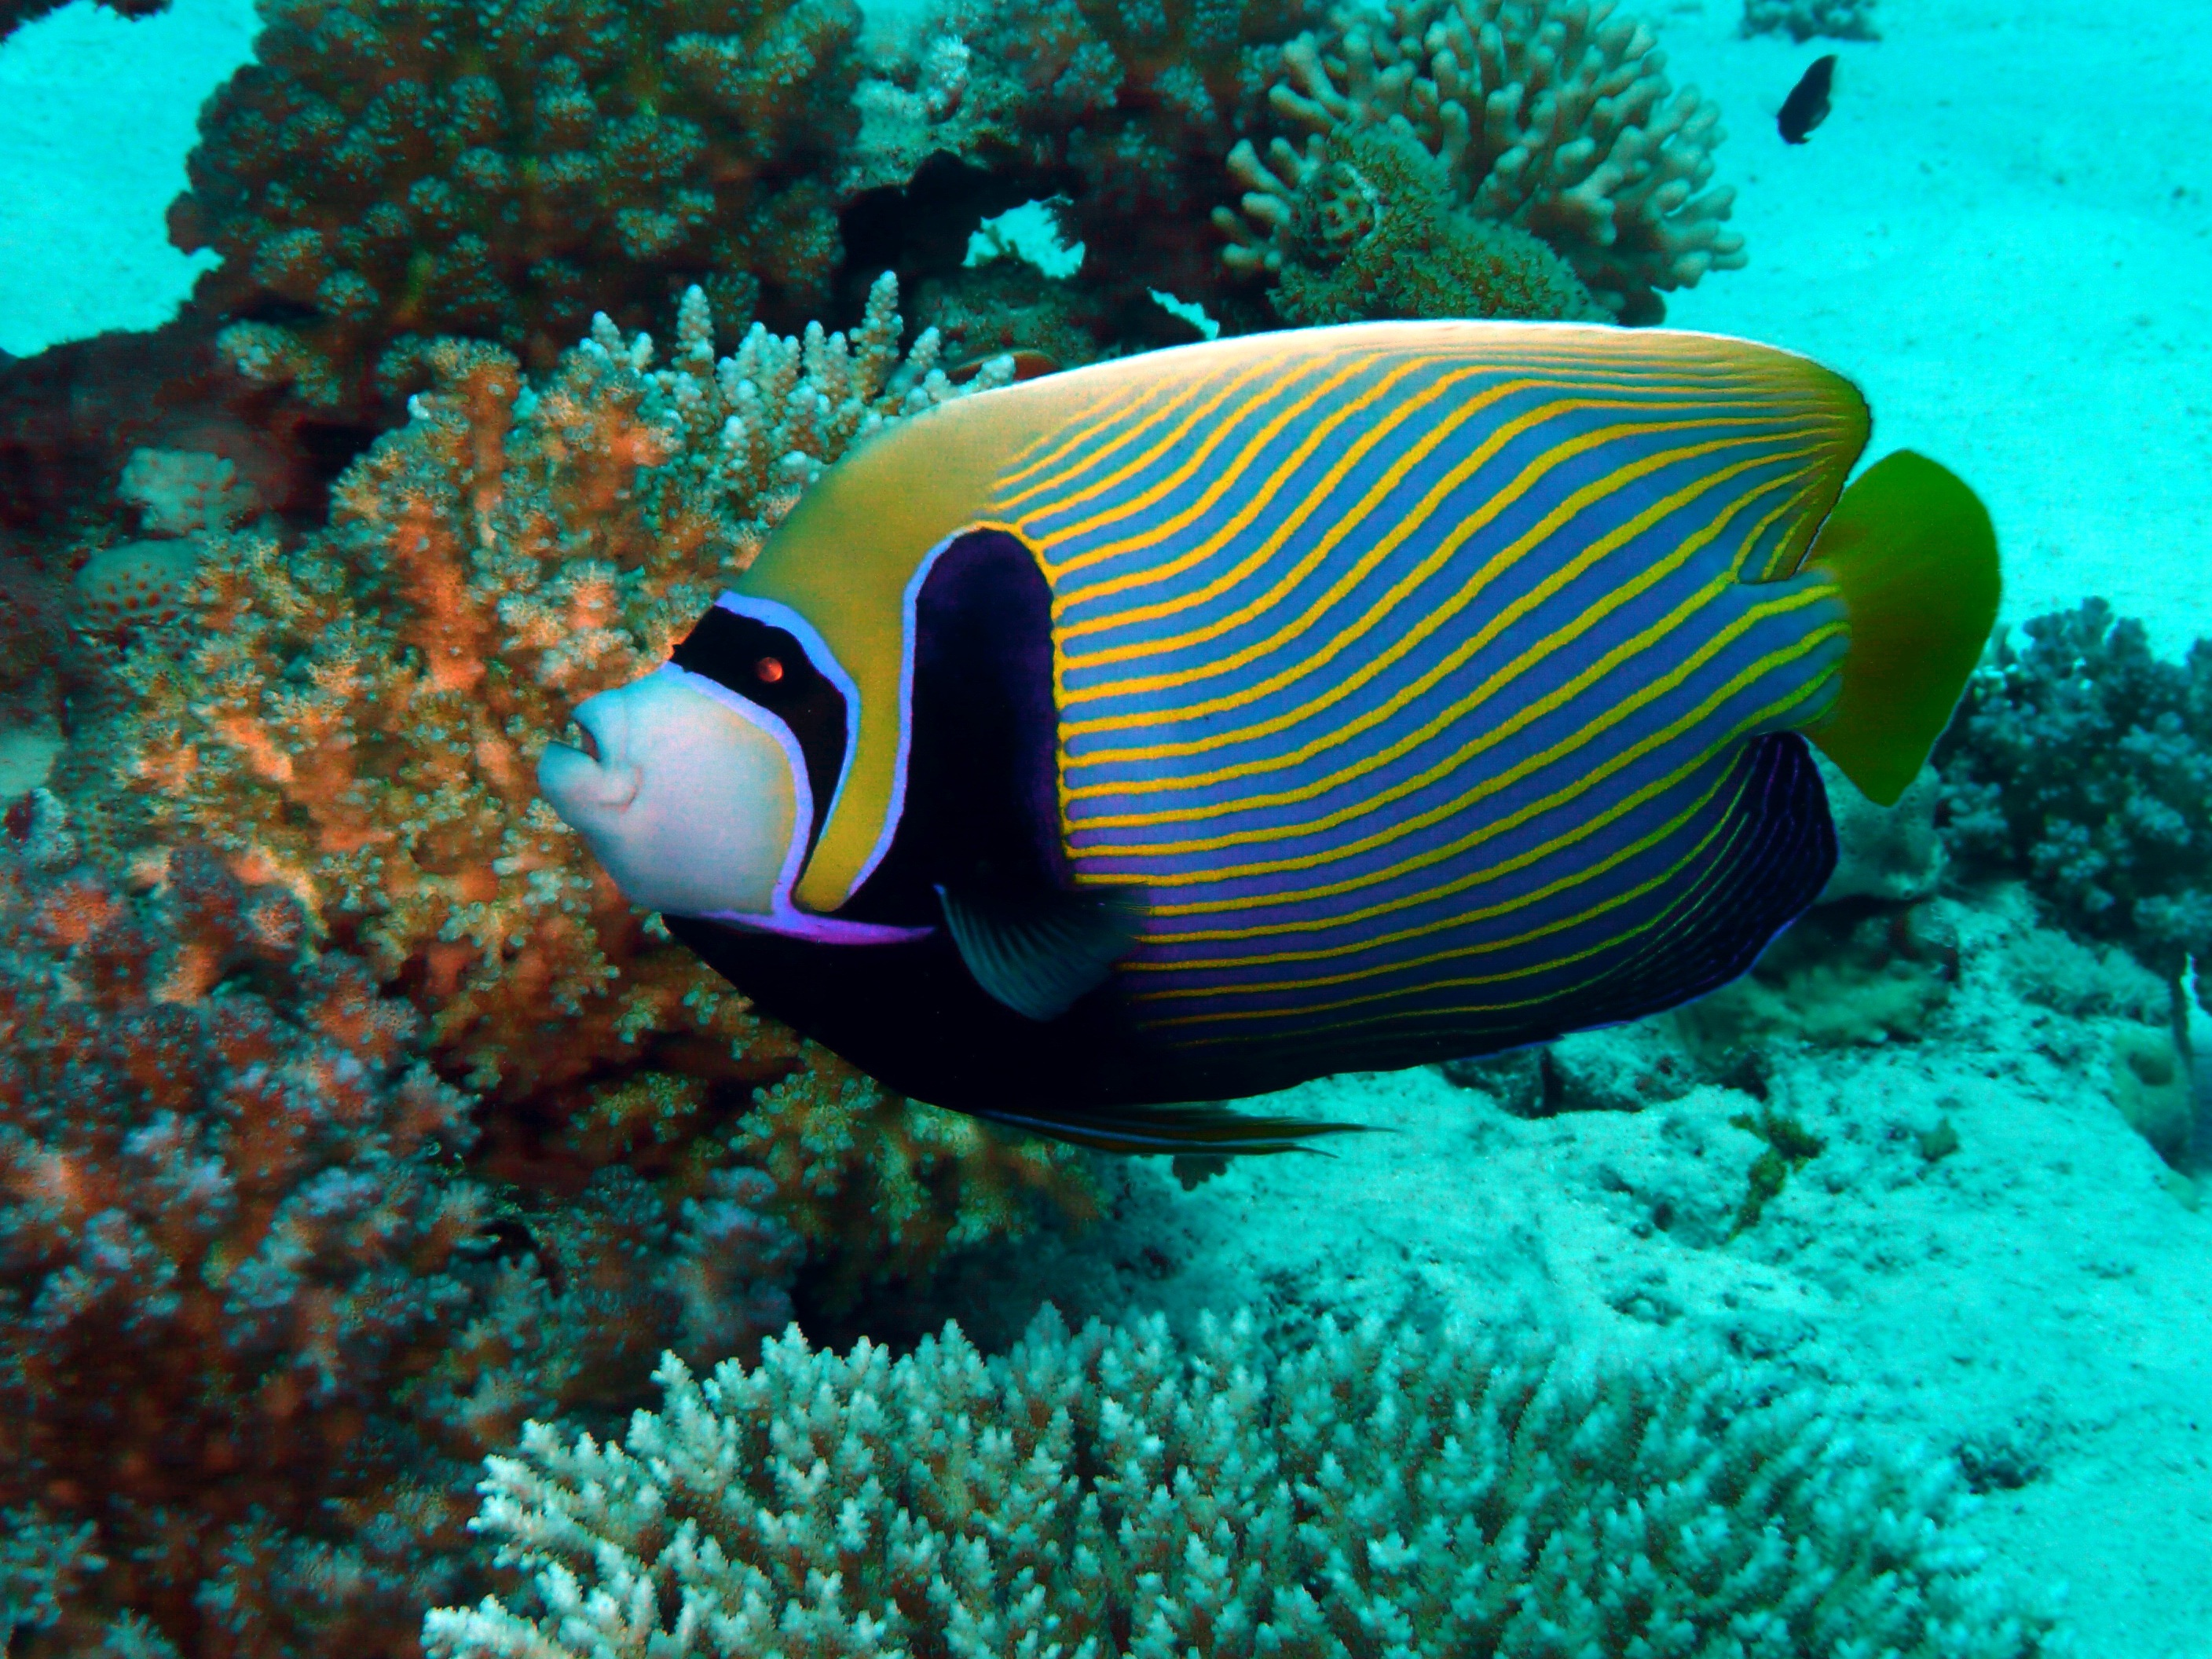Pomacanthus_imperator: (482, 328, 2047, 1185)
